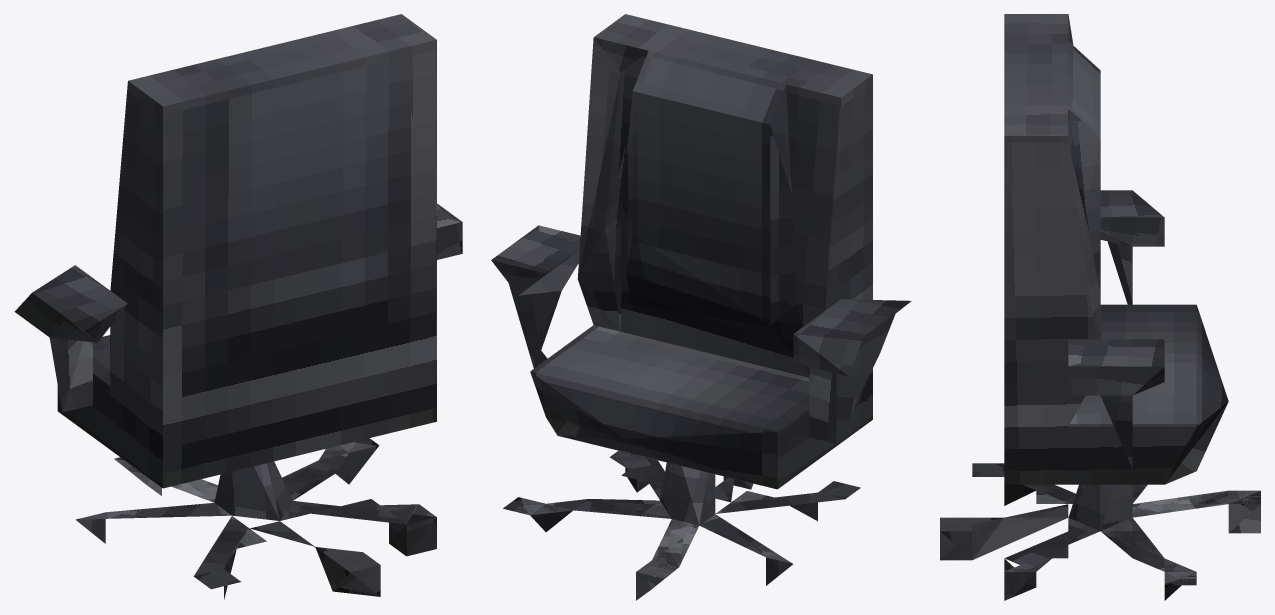
The model's file is chair.obj.
The picture shows the model from 3 angles, left to right: view 1: azimuth 30°, elevation 25°; view 2: azimuth 150°, elevation 25°; view 3: azimuth 270°, elevation 25°; orthographic projection. The views are drawn at different scales.
Bounding box in the file's own units: 0.3491 × 0.4297 × 0.2686.
